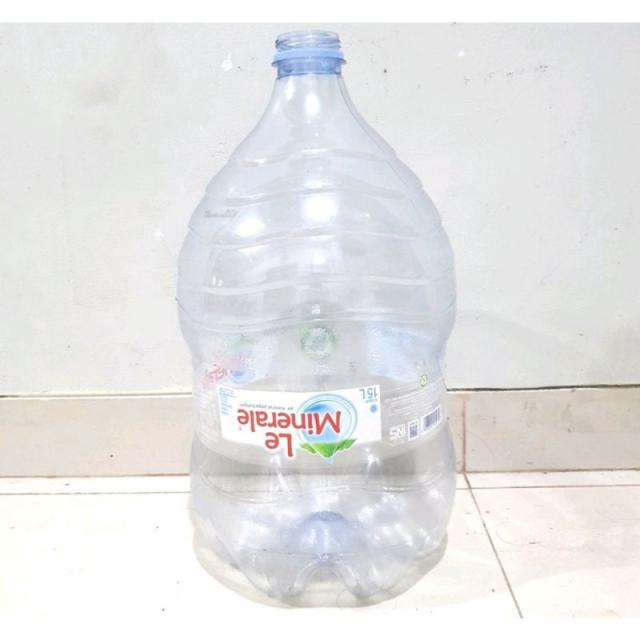Anorganik: (173, 21, 476, 603)
